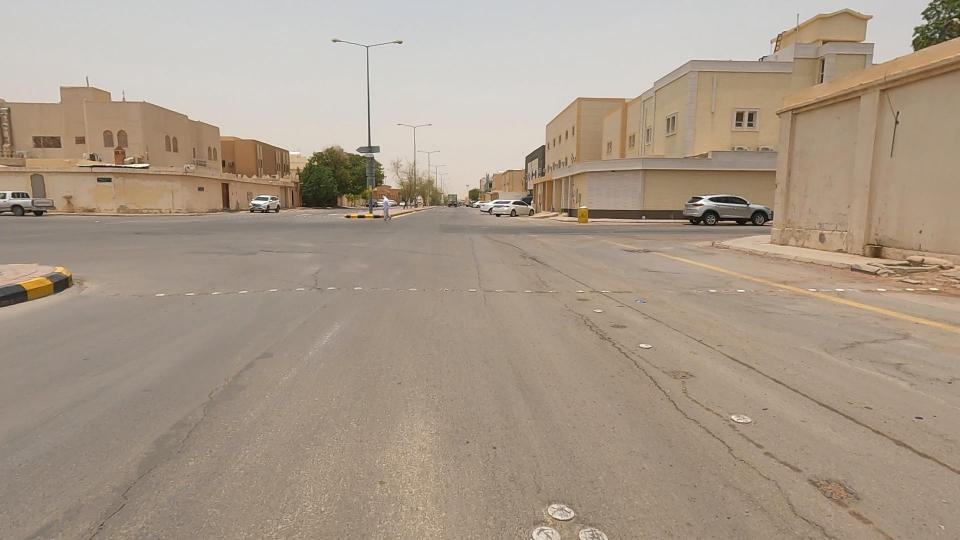POTHOLES: (523, 288, 701, 410), (584, 207, 714, 286), (485, 222, 587, 301)
